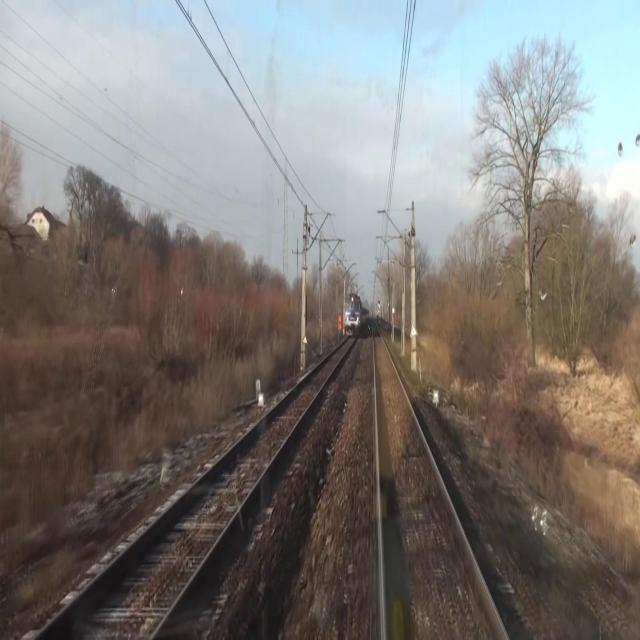rail-track: (37, 337, 354, 639), (372, 319, 504, 639)
